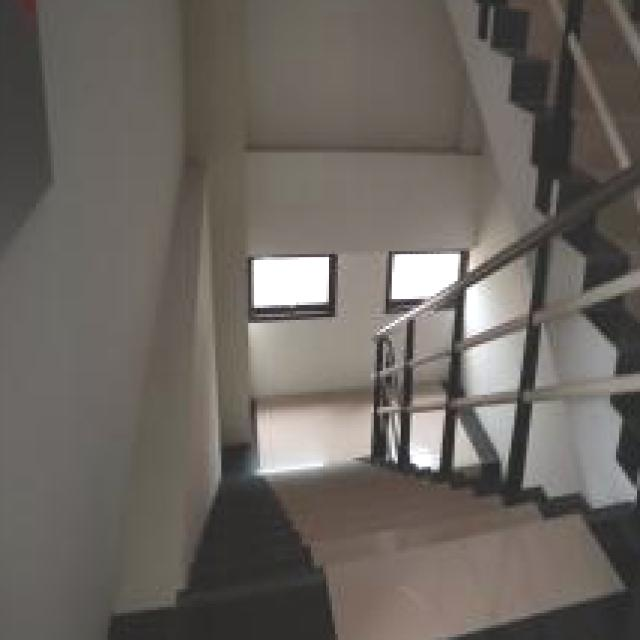downstair: (208, 491, 546, 640)
